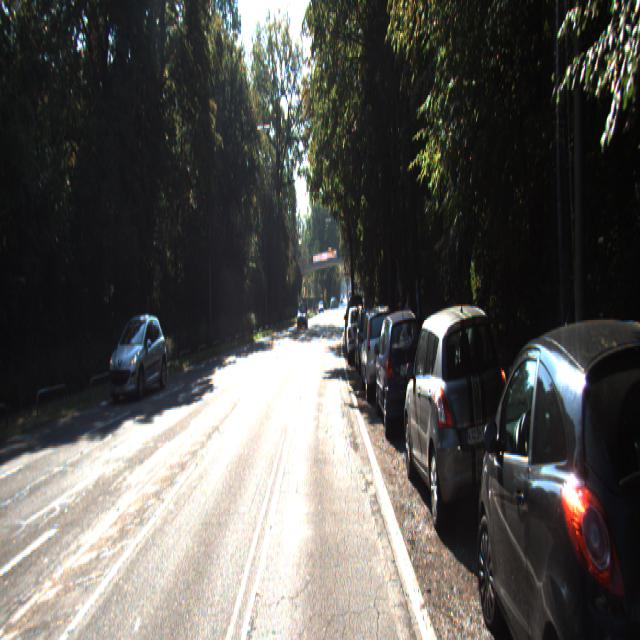Car: (471, 312, 640, 638), (402, 306, 519, 542), (374, 303, 428, 434), (107, 312, 168, 402), (359, 305, 400, 402), (346, 303, 367, 362), (297, 298, 308, 324)
